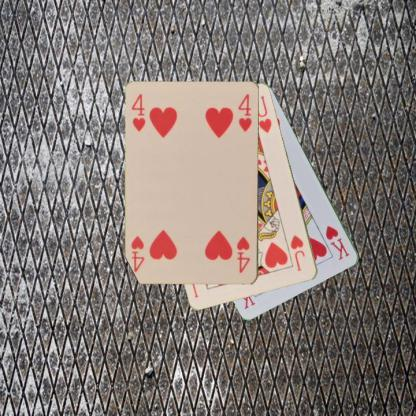4h: (129, 92, 147, 133), (234, 234, 252, 274)
Jh: (288, 232, 307, 273)
Kh: (323, 223, 351, 262)
